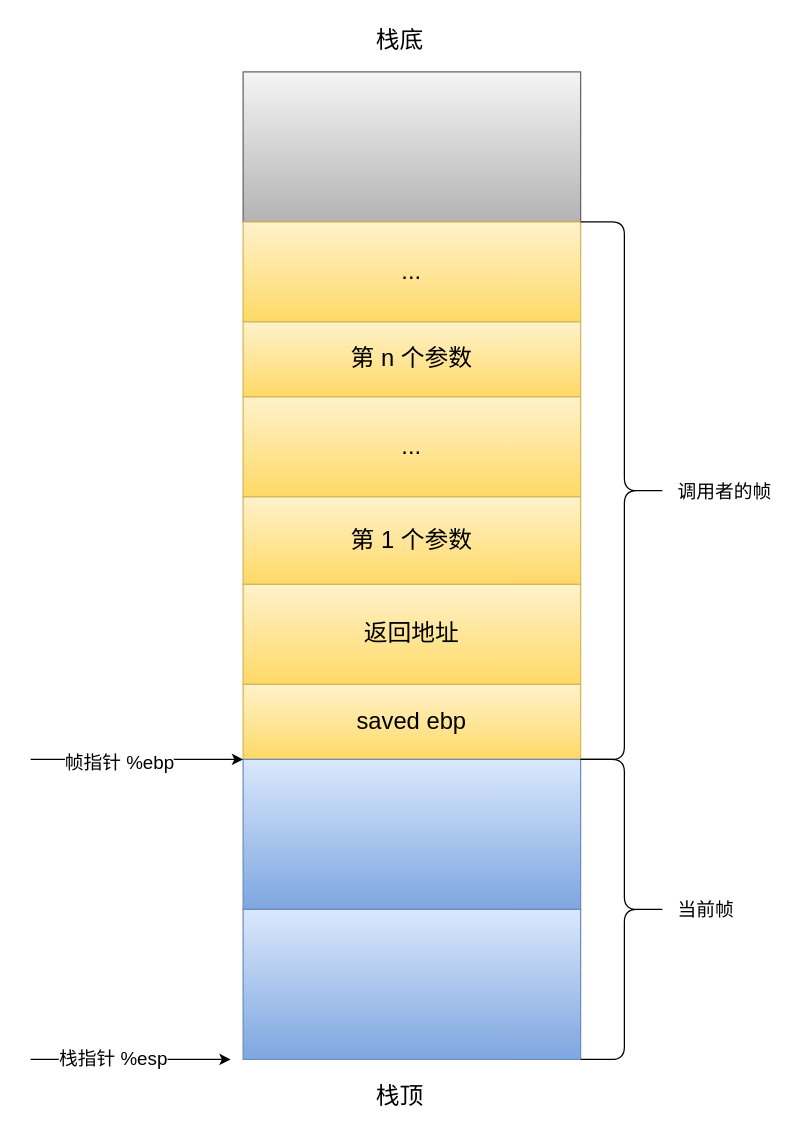
This 803x1136 diagram has some shape labels left out. The centre of each missing label's shape, as x and y in pixels:
保存的寄存器、本地变量、 临时变量 etc.: point 411,833
参数构造区域: point 411,983
较早的帧: point 411,146
